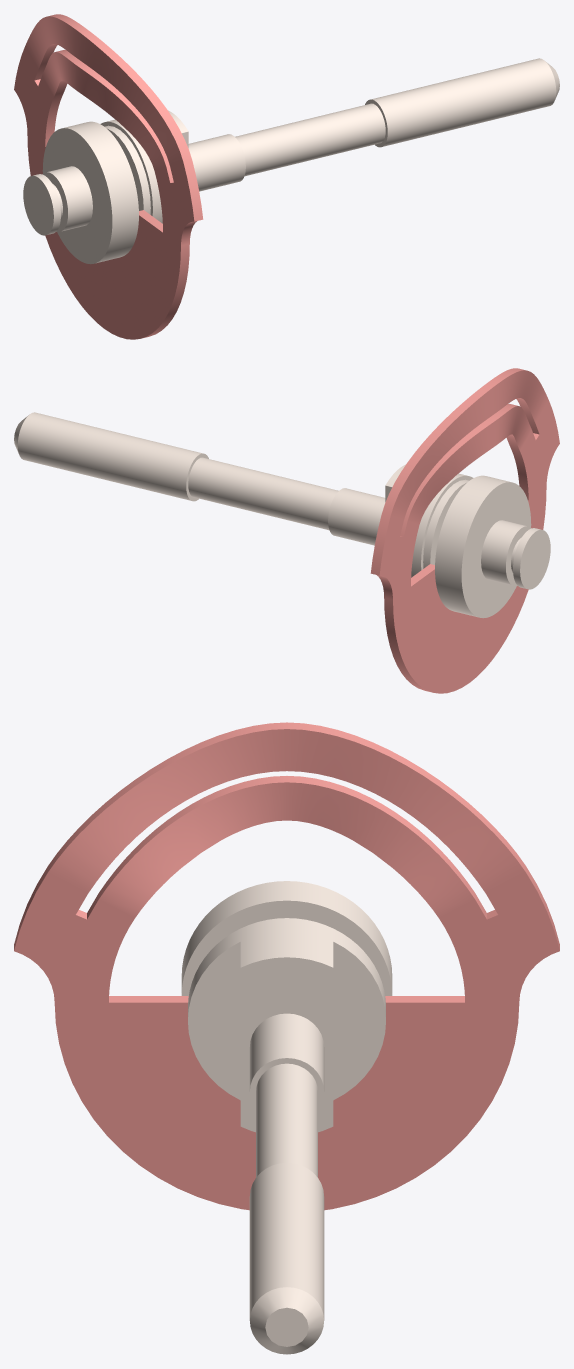
File: part 2 shaft.fbx
3 renders of one model, top to bottom at view 1: azimuth 30°, elevation 25°; view 2: azimuth 150°, elevation 25°; view 3: azimuth 270°, elevation 25°, orthographic. The views are drawn at different scales.
Size of the model in its own units: 14.5 by 8.25 by 8.81.
